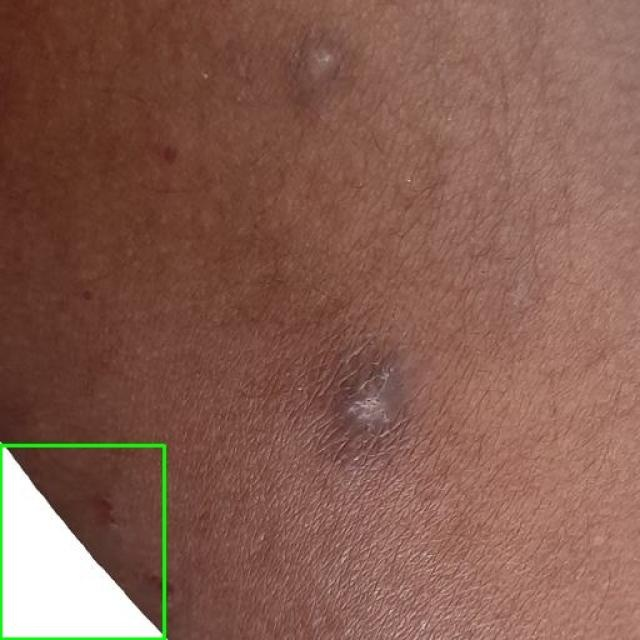Scabies: (0, 445, 164, 639)
